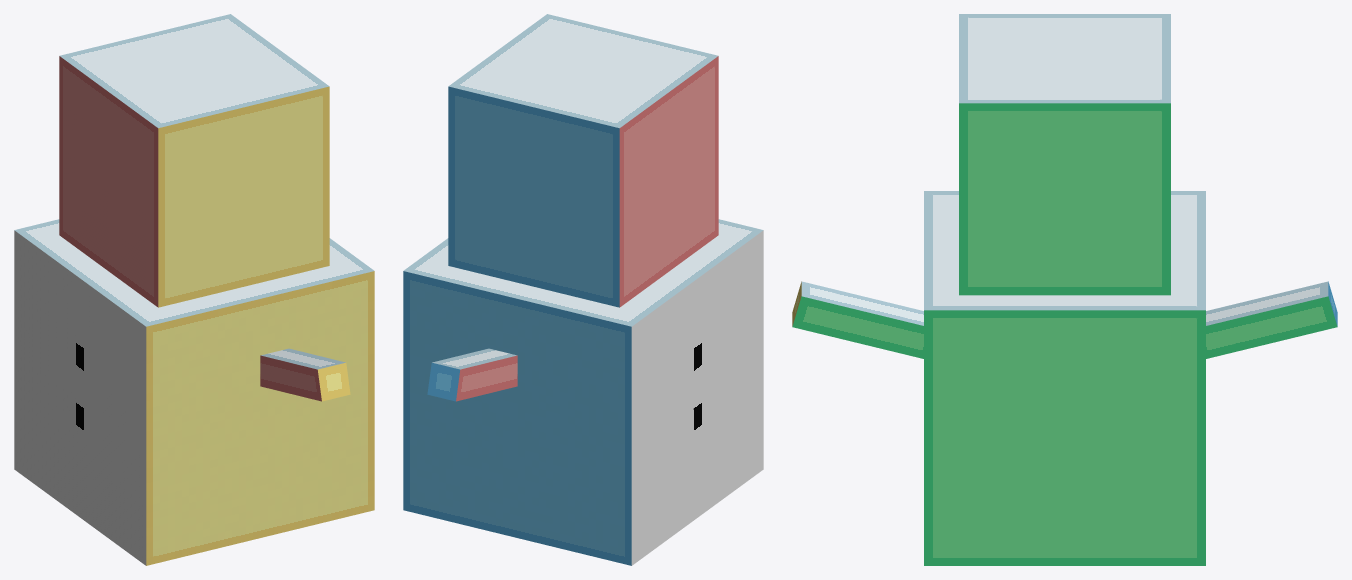
Rendered from snowman.gltf.
3 views of the same model, side by side, from view 1: azimuth 30°, elevation 25°; view 2: azimuth 150°, elevation 25°; view 3: azimuth 270°, elevation 25° (orthographic). The views are drawn at different scales.
Parts seen in each view (by area): view 1: Snowman Body, Snowman Head, Arm Left; view 2: Snowman Body, Snowman Head, Arm Left; view 3: Snowman Body, Snowman Head, Arm Left (×2).
Boxes of the visible parts, bbox=[...] form: Snowman Body: bbox=[14, 219, 374, 565]; Snowman Head: bbox=[59, 14, 329, 307]; Arm Left: bbox=[260, 348, 350, 401]; Snowman Body: bbox=[403, 219, 763, 565]; Snowman Head: bbox=[448, 14, 718, 307]; Arm Left: bbox=[427, 348, 517, 401]; Snowman Body: bbox=[924, 191, 1205, 565]; Snowman Head: bbox=[959, 14, 1170, 295]; Arm Left (×2): bbox=[792, 281, 1337, 358].
Size of the model in its own units: 2 by 3.5 by 3.86.
1 material, 1 textured.
